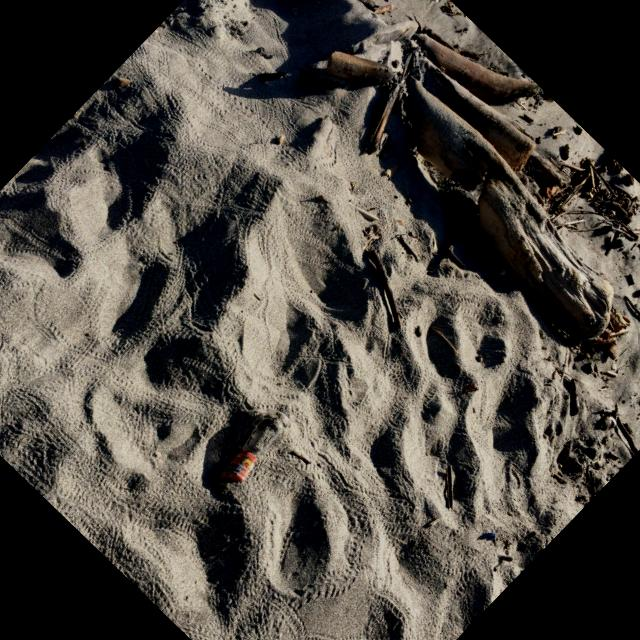Clear plastic bottle: (216, 409, 290, 496)
